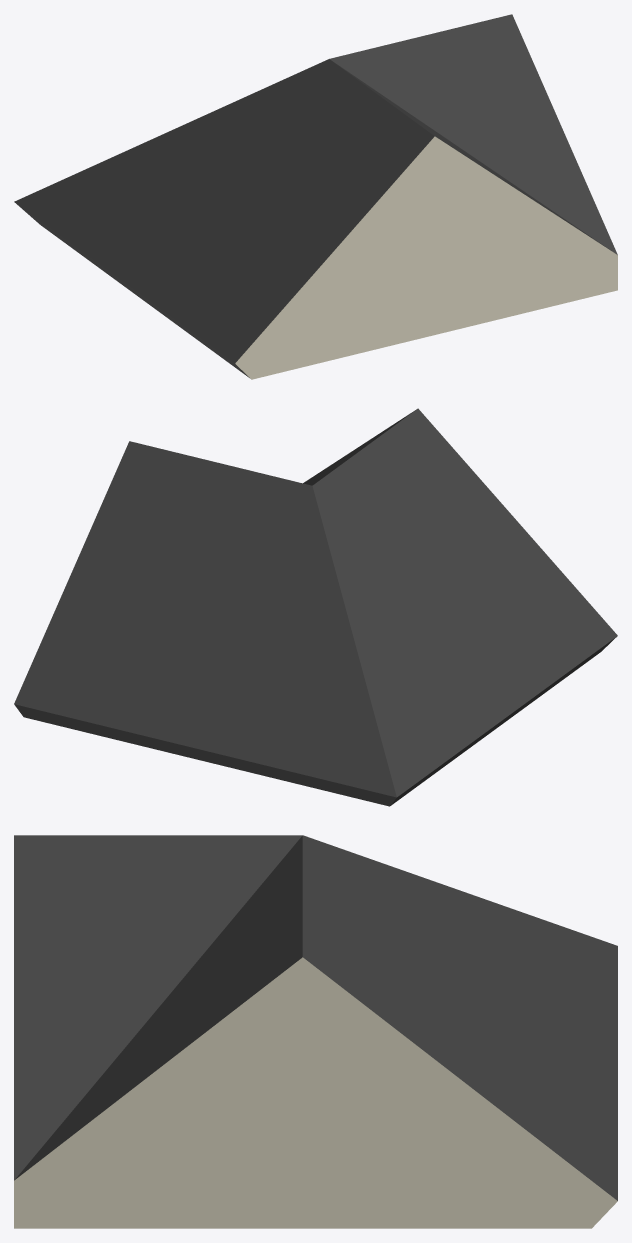
File: modularBuildings_051.fbx
3 views of the same model, one above another, from view 1: azimuth 30°, elevation 25°; view 2: azimuth 150°, elevation 25°; view 3: azimuth 270°, elevation 25° (orthographic). The views are drawn at different scales.
Parts seen in each view (by area): view 1: Roof.Mesh1 Group1 Model, Brick; view 2: Roof.Mesh1 Group1 Model; view 3: Roof.Mesh1 Group1 Model, Brick.
Boxes of the visible parts, x1,y1,x2,y2 form: Roof.Mesh1 Group1 Model: [14, 14, 617, 377]; Brick: [235, 136, 617, 379]; Roof.Mesh1 Group1 Model: [14, 408, 617, 806]; Roof.Mesh1 Group1 Model: [14, 835, 617, 1200]; Brick: [14, 957, 617, 1228].
Bounding box in the file's own units: 1.05 × 0.5188 × 1.05.
